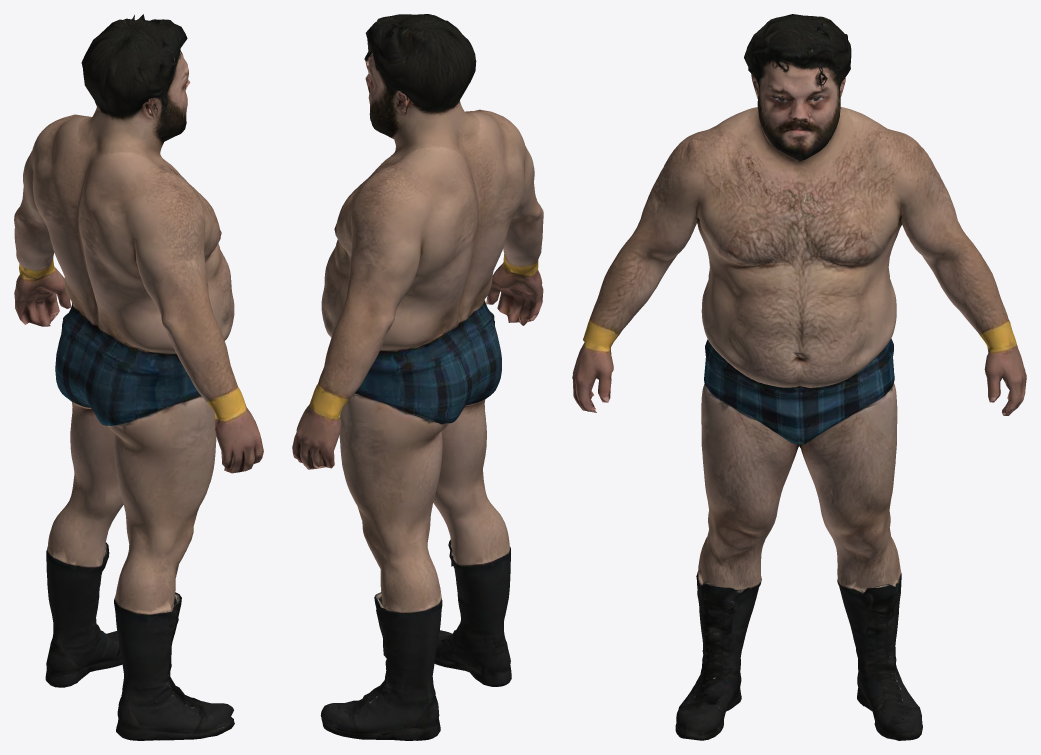
Rendered from CODY_gear.glb.
The picture shows the model from 3 angles, left to right: view 1: azimuth 30°, elevation 25°; view 2: azimuth 150°, elevation 25°; view 3: azimuth 270°, elevation 25°; orthographic projection. The views are drawn at different scales.
Parts seen in each view (by area): view 1: tripo_node_d82d220f-0bca-420e-acd2-b11a50a30bc9; view 2: tripo_node_d82d220f-0bca-420e-acd2-b11a50a30bc9; view 3: tripo_node_d82d220f-0bca-420e-acd2-b11a50a30bc9.
Boxes of the visible parts, x1,y1,x2,y2 form: tripo_node_d82d220f-0bca-420e-acd2-b11a50a30bc9: (14, 14, 263, 740); tripo_node_d82d220f-0bca-420e-acd2-b11a50a30bc9: (292, 14, 543, 740); tripo_node_d82d220f-0bca-420e-acd2-b11a50a30bc9: (572, 14, 1026, 740).
Bounding box in the file's own units: 0.2305 × 0.9761 × 0.5719.
1 material, 1 textured.
